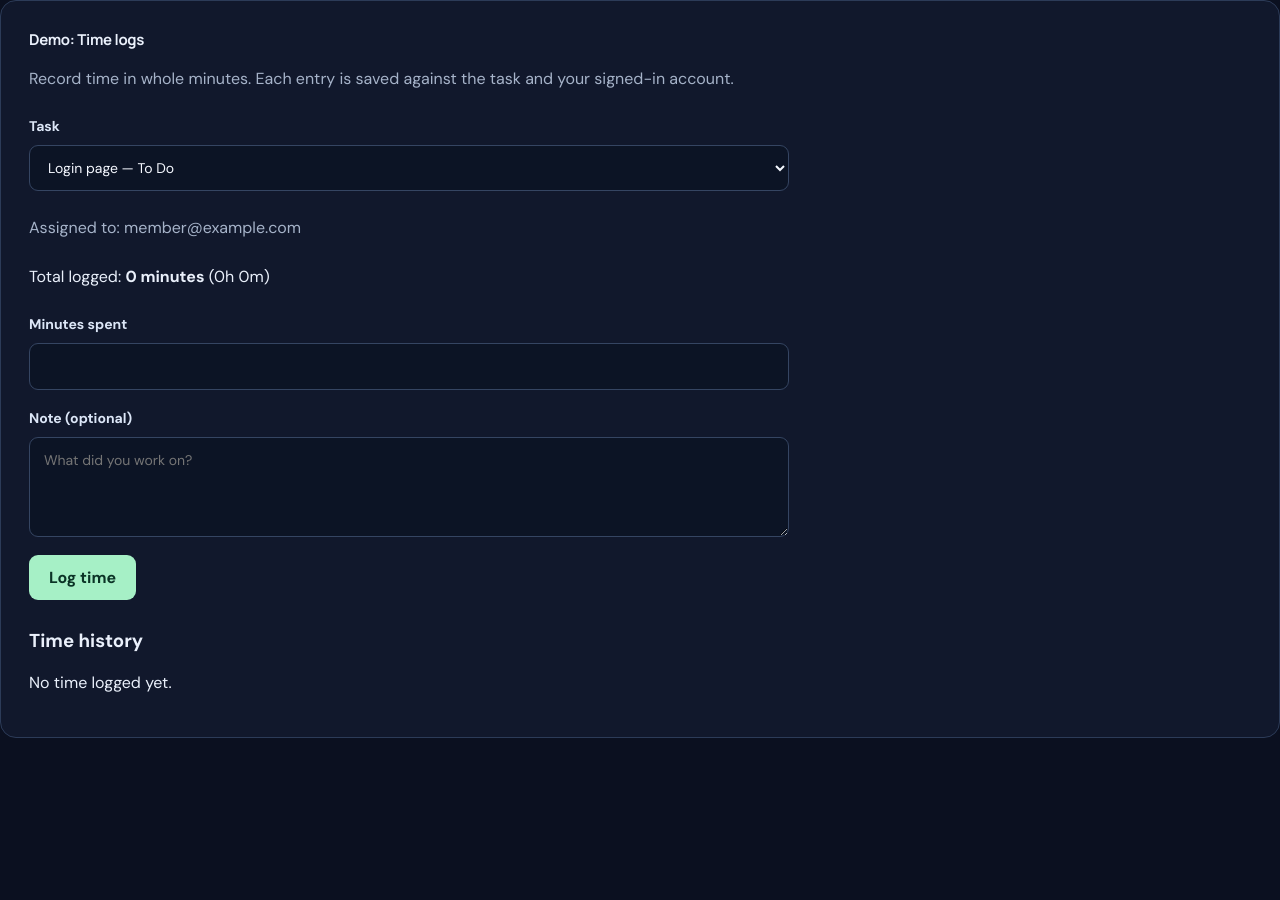
revoked write access removes the form after a 403 response
Expected: the text "No time logged yet." is shown, [29,672,172,692]
Type "15" into the number field labelled "Minutes spent".
click(409, 366); type("15")  # box [29,343,789,390]
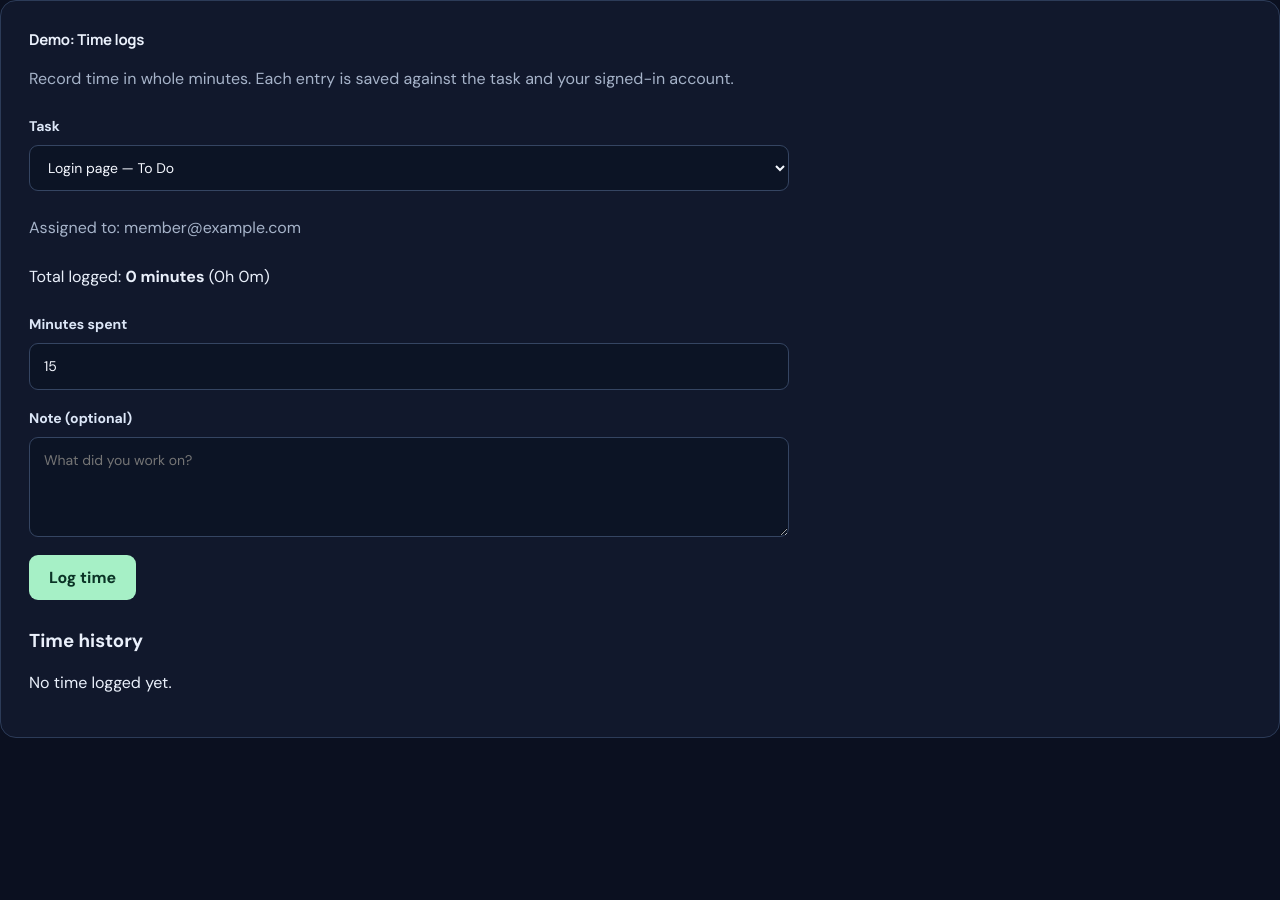
Click the button "Log time".
click(83, 577)  # box [29,555,136,600]
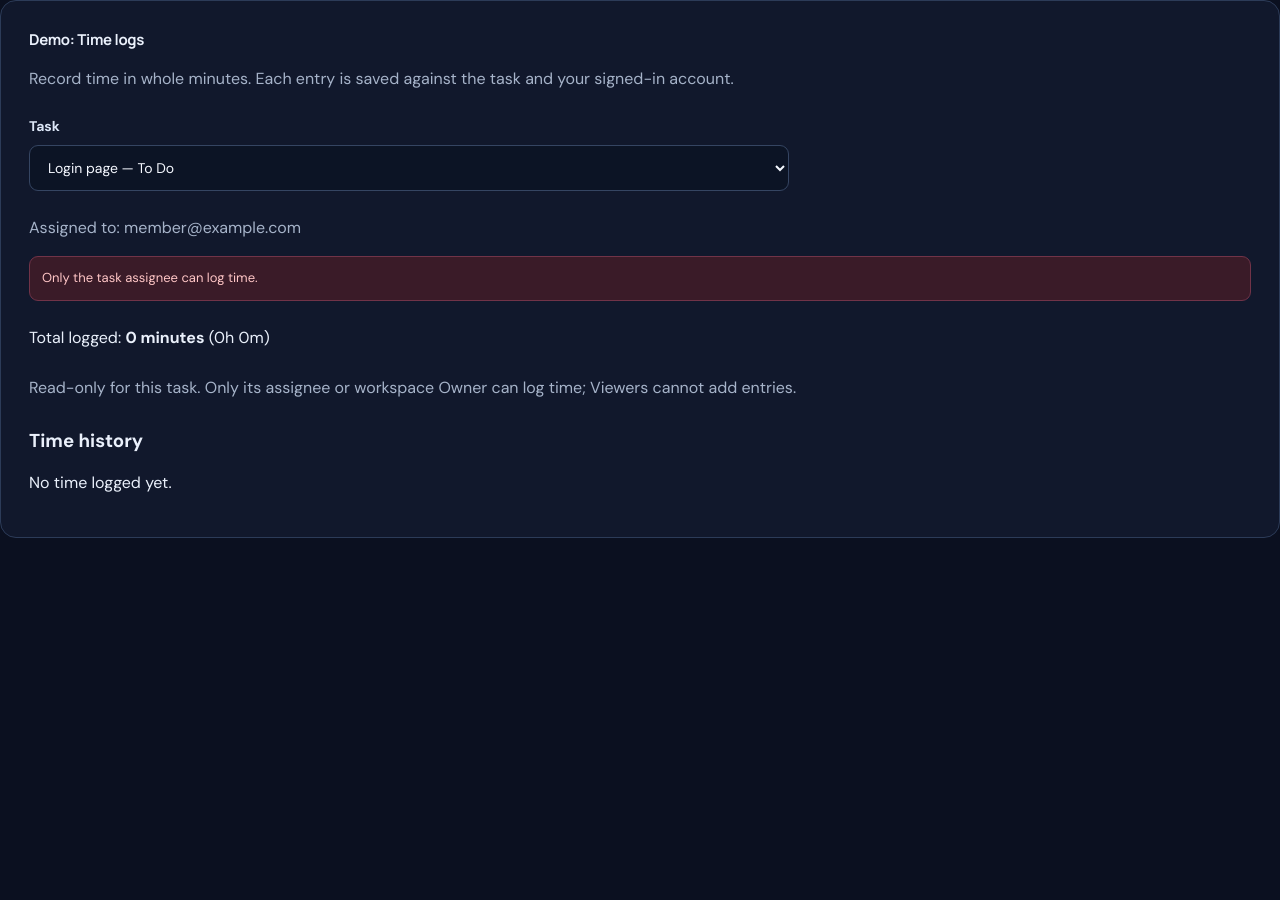
Result: the text "Read-only for this task" is shown at [29,377,796,398]
